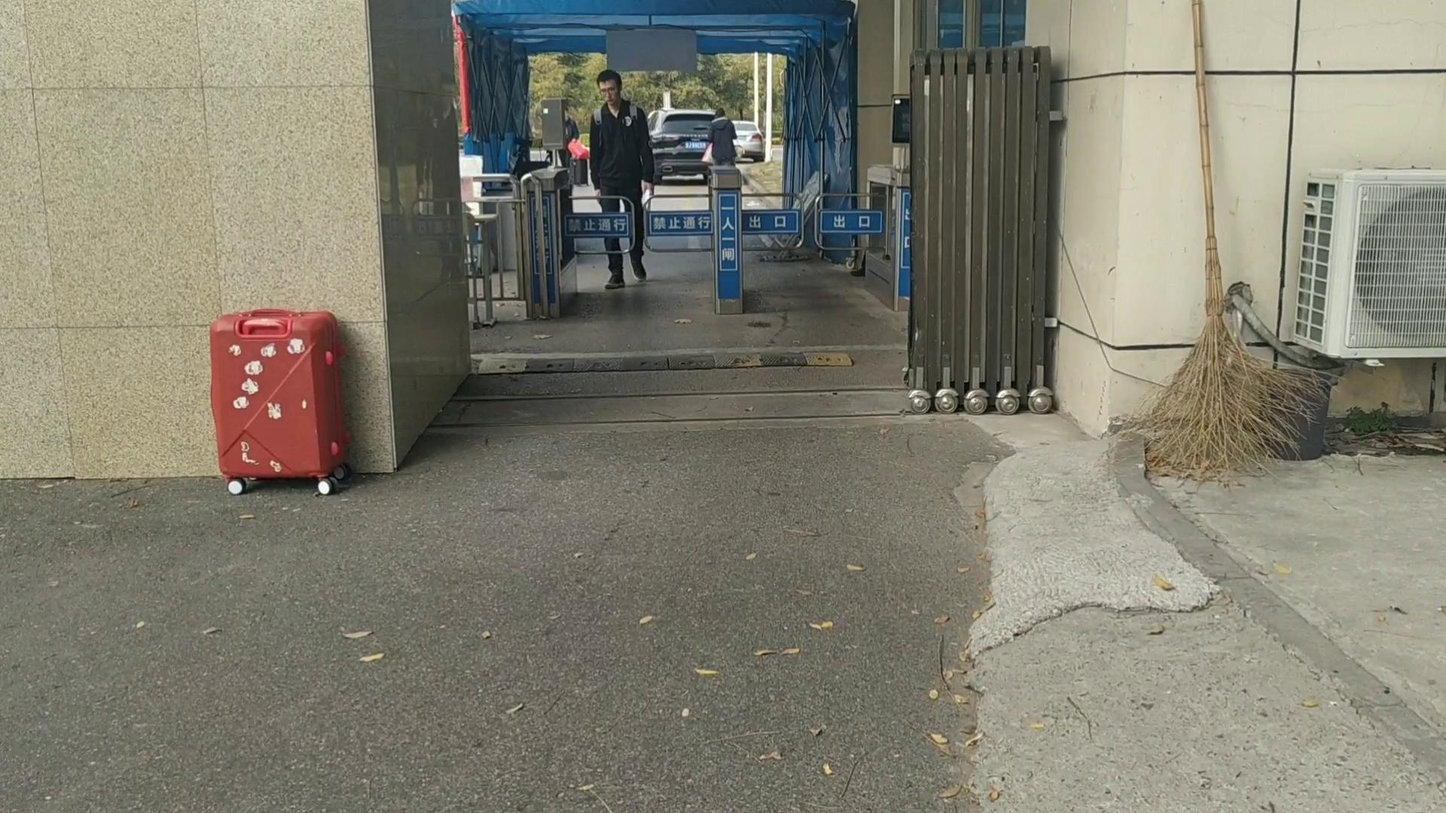car: (645, 109, 740, 184), (730, 120, 767, 161)
